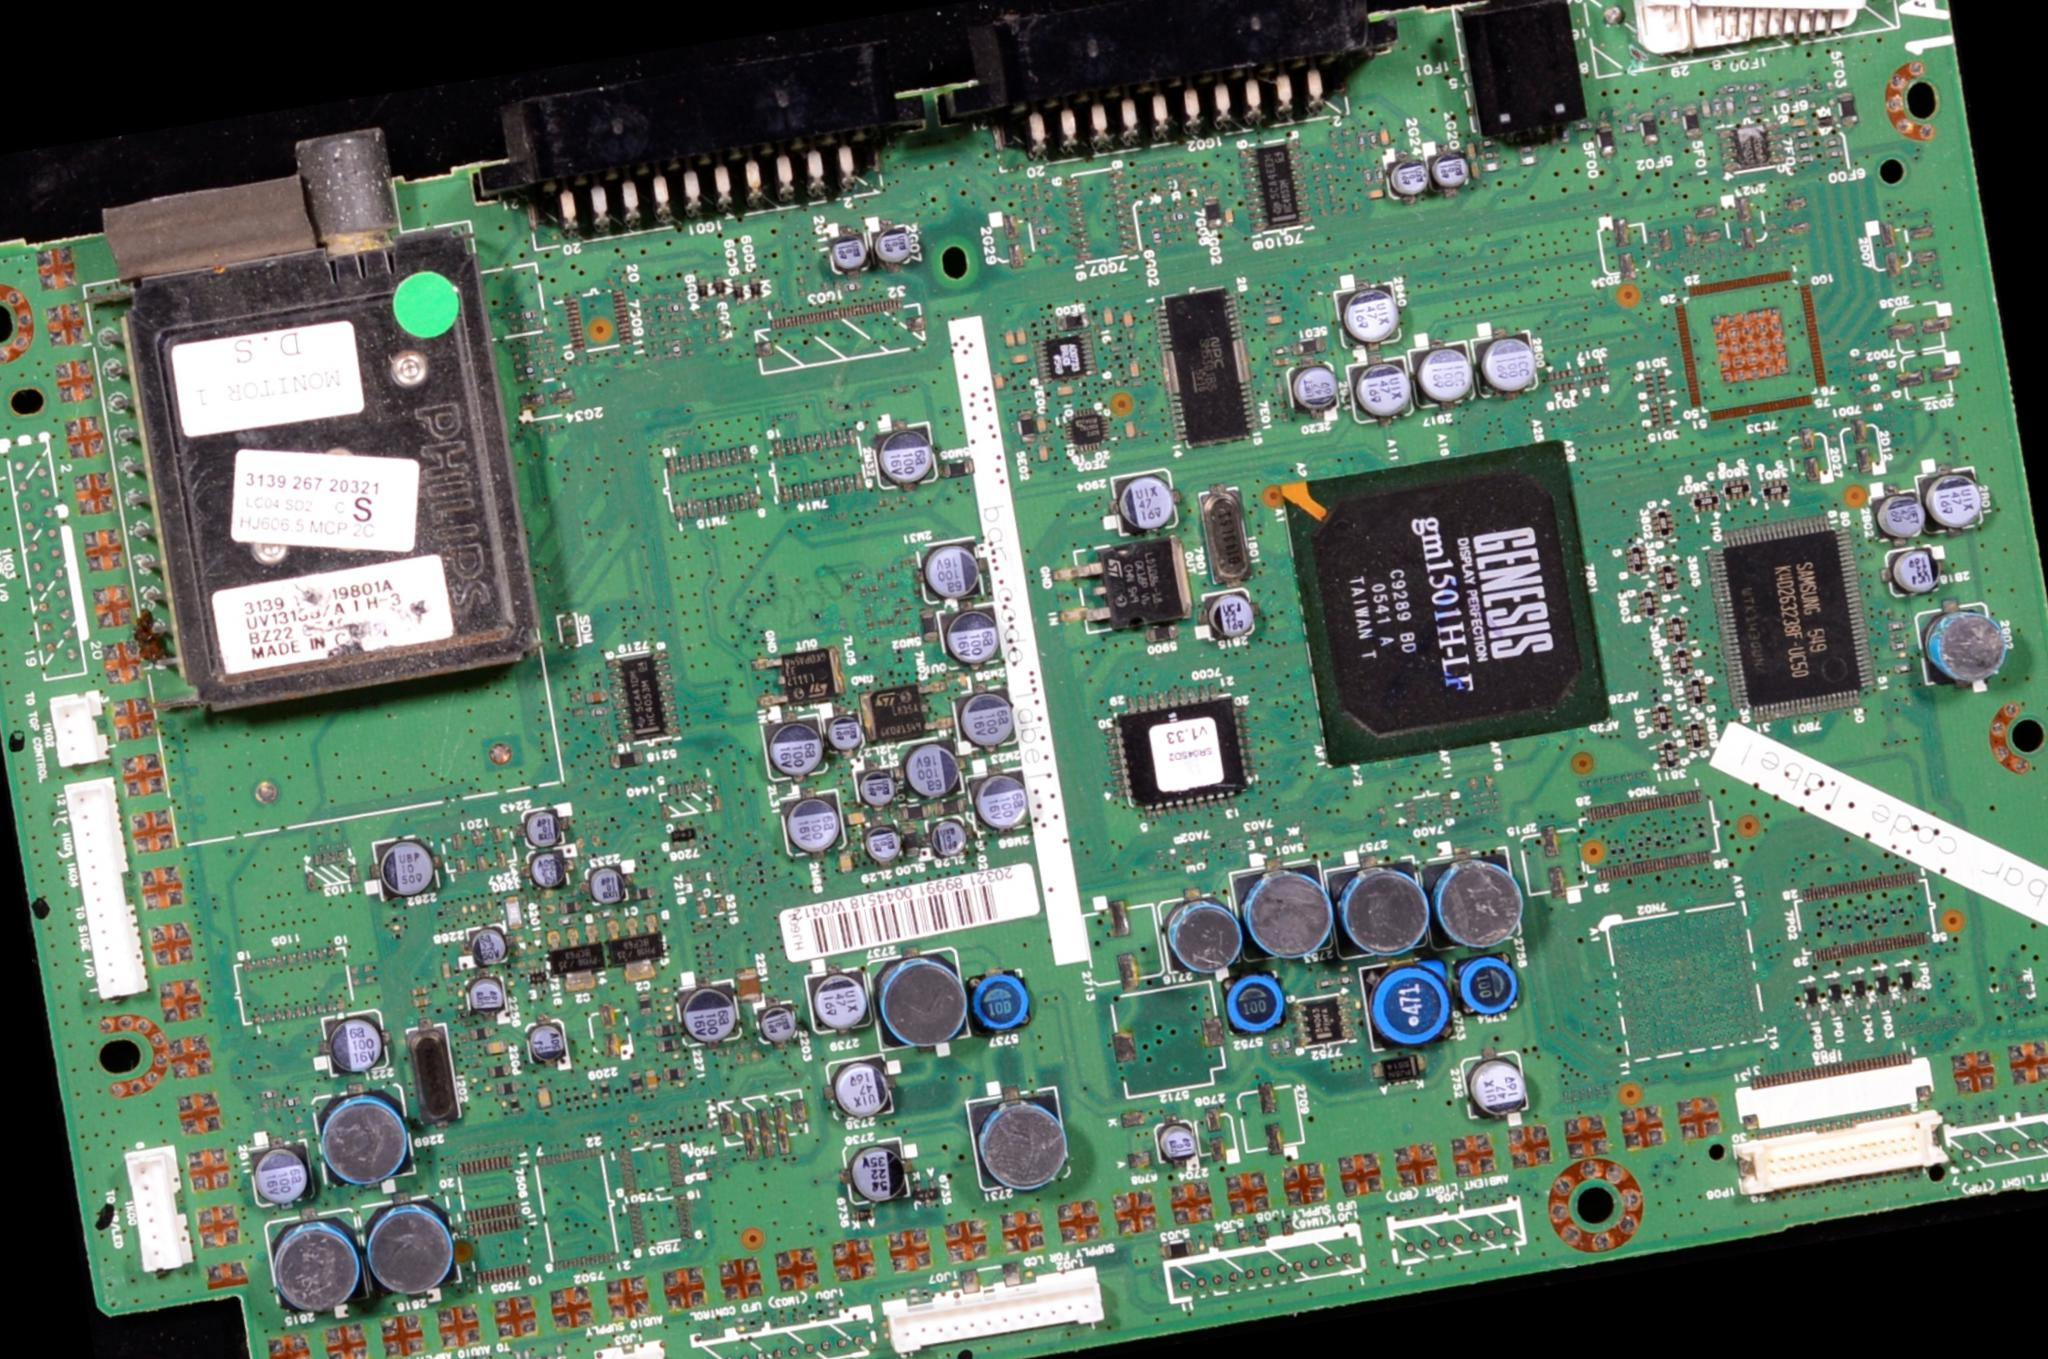Capacitor Jumper: (947, 669, 1049, 755), (1317, 281, 1408, 359), (1472, 329, 1543, 426), (781, 792, 850, 877), (970, 763, 1043, 843), (940, 602, 1026, 669), (250, 1135, 318, 1207), (917, 538, 990, 607), (323, 1012, 394, 1080), (1405, 337, 1467, 414), (373, 834, 446, 899), (1925, 458, 1987, 529), (1113, 469, 1178, 535), (1357, 358, 1410, 438), (803, 963, 869, 1028), (1871, 543, 1939, 605), (925, 813, 993, 875), (808, 971, 867, 1027), (835, 1063, 890, 1119), (1875, 482, 1931, 537), (769, 716, 825, 771), (849, 1147, 902, 1201), (679, 984, 729, 1040), (682, 987, 734, 1040), (900, 746, 952, 799), (255, 1147, 305, 1201), (1205, 588, 1249, 646), (1290, 358, 1339, 408), (515, 810, 568, 855), (750, 1004, 803, 1048), (582, 871, 629, 918), (861, 821, 899, 872), (850, 764, 893, 807), (532, 1019, 570, 1066), (461, 980, 505, 1019), (465, 930, 509, 966), (825, 707, 855, 752), (532, 851, 564, 890), (759, 1007, 791, 1042), (535, 1086, 555, 1113), (484, 1039, 509, 1059), (1013, 323, 1029, 347), (1119, 309, 1137, 331), (1054, 382, 1076, 399), (1002, 325, 1017, 349), (990, 370, 1007, 391), (1125, 358, 1141, 379), (643, 1069, 658, 1092), (440, 959, 453, 983), (409, 996, 432, 1010), (1122, 419, 1137, 438), (1035, 443, 1051, 463), (1034, 413, 1047, 434), (1361, 187, 1384, 199), (1784, 114, 1804, 127), (1263, 314, 1282, 328), (1102, 305, 1113, 328), (1225, 205, 1235, 224), (1008, 353, 1028, 364), (406, 986, 426, 995), (1379, 126, 1389, 144)
Connector: (71, 96, 550, 725), (468, 30, 934, 243), (932, 0, 1411, 174), (1434, 0, 1607, 161), (1617, 0, 1890, 65)
IC: (1273, 438, 1611, 767), (1695, 501, 1877, 734), (1102, 673, 1263, 822), (1148, 281, 1260, 447), (605, 643, 688, 742), (1237, 132, 1310, 229), (1037, 334, 1098, 387), (1070, 405, 1120, 449)
